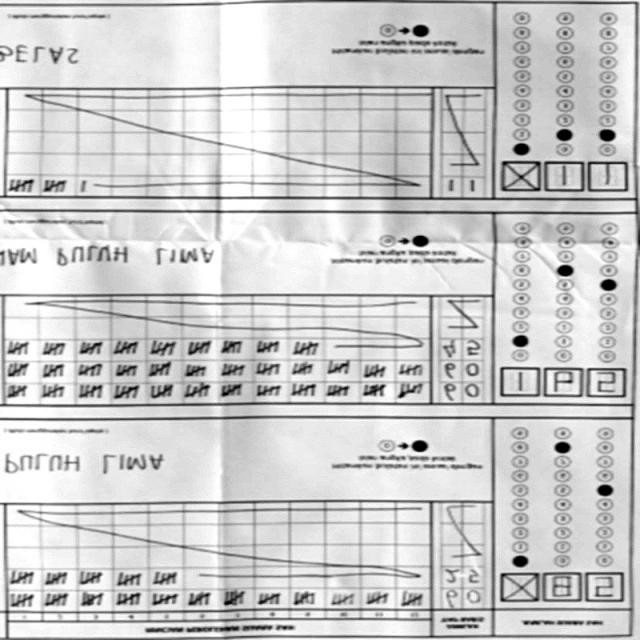Suara: (494, 569, 626, 609), (498, 158, 630, 198), (496, 363, 626, 403)
